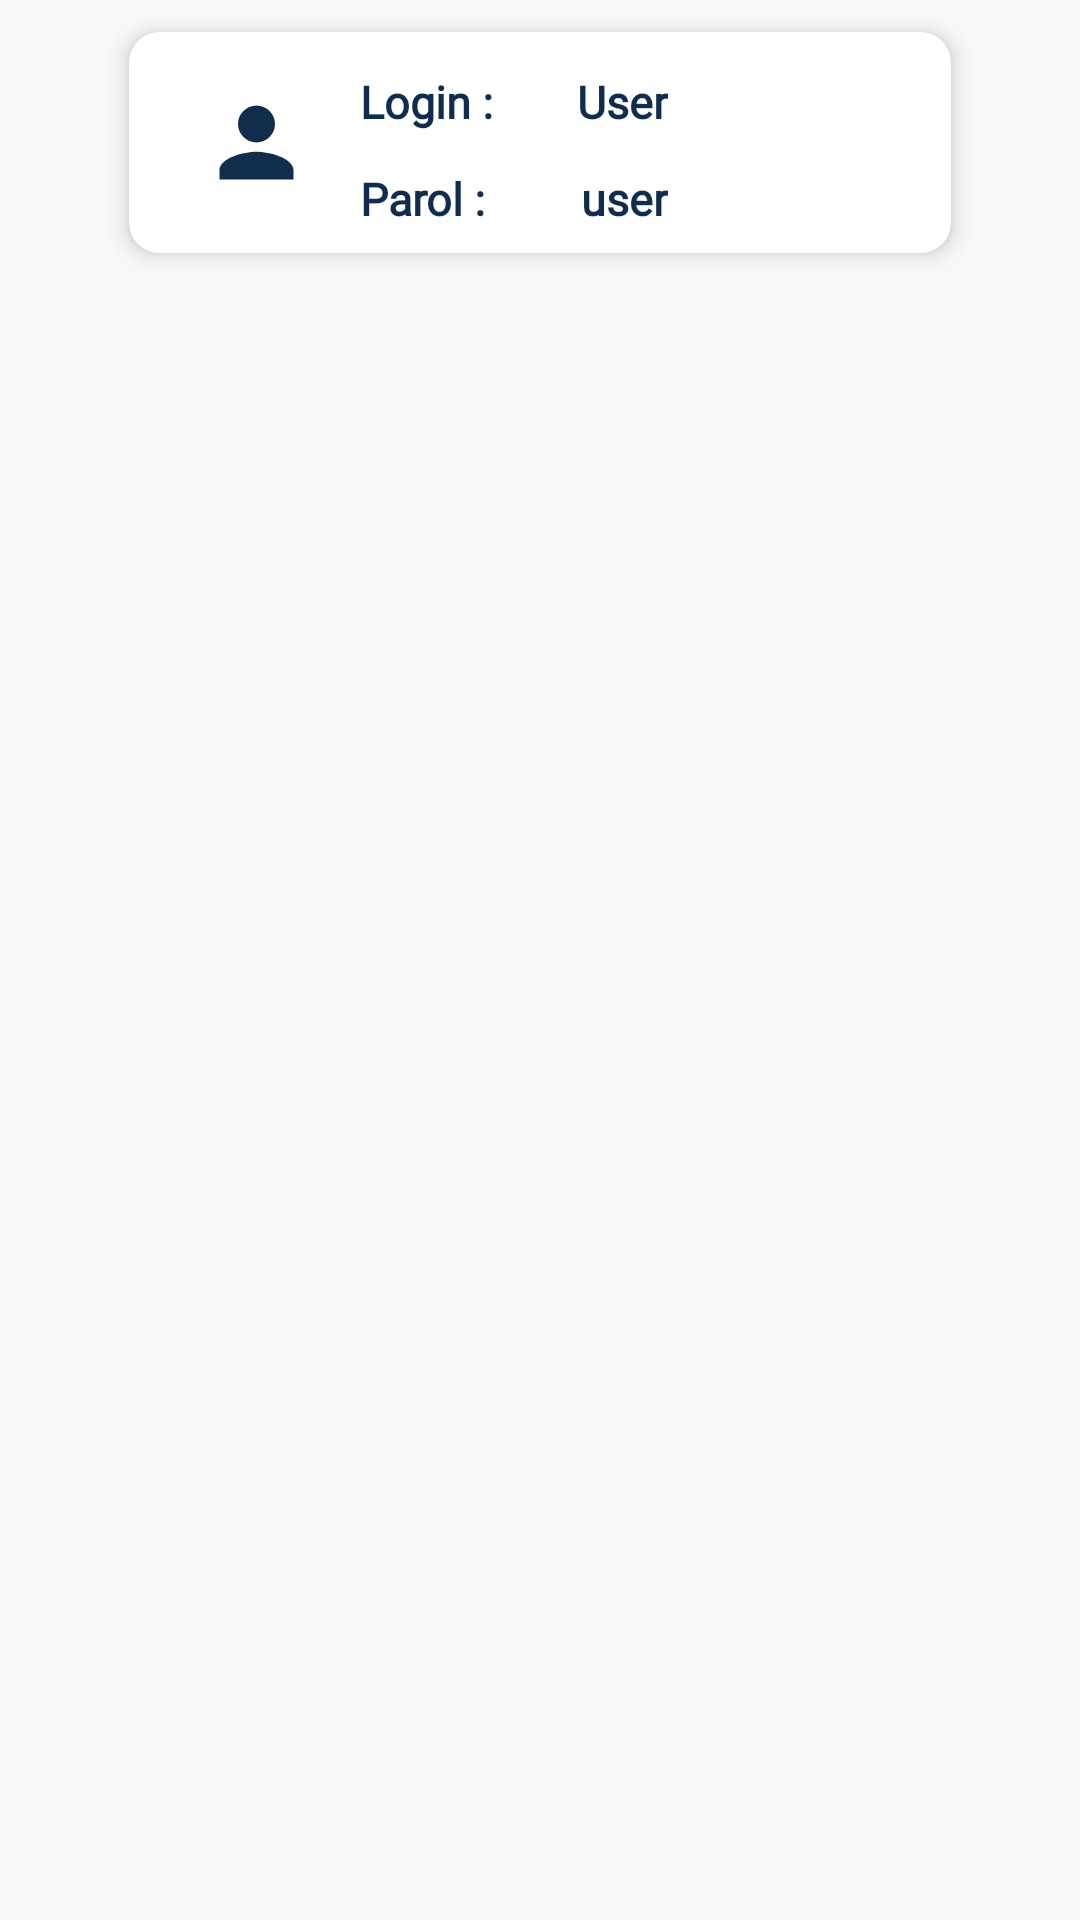

Icon bounding boxes for this 1080x1920 phone screenshot, format Rect(x1, y1, x2, y2):
person: Rect(219, 105, 294, 180)
